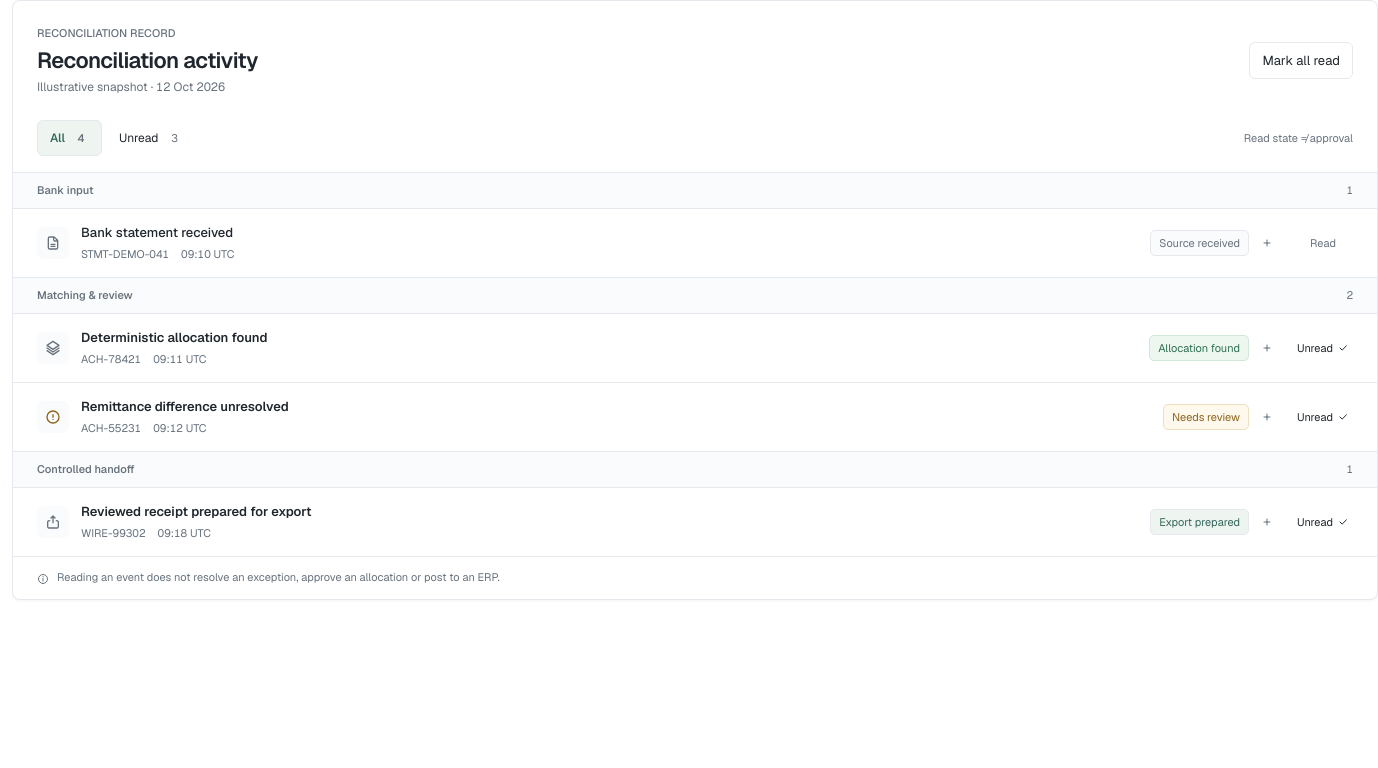
Test: ReconciliationActivity › marks all events read while preserving exceptions and export controls
Click the button "Mark all read" at (1301,61), box 1250,42 -> 1353,79
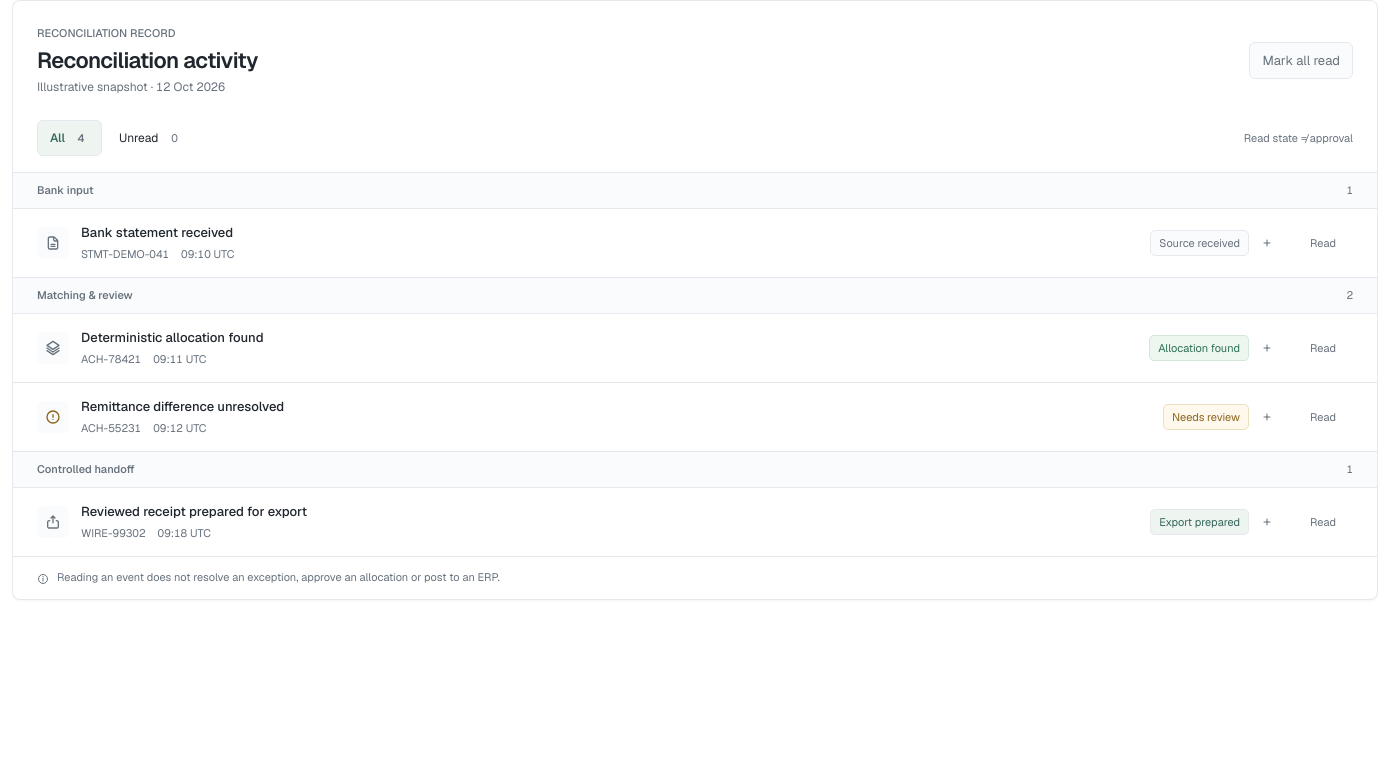
Expected: the text "Needs review" is shown, 1163,404 -> 1249,430
Now the button "Mark all read" is disabled, box 1250,42 -> 1353,79
Now the button "Unread 0" is shown
Click the button "Unread 0" at (151,138), box 106,120 -> 196,156
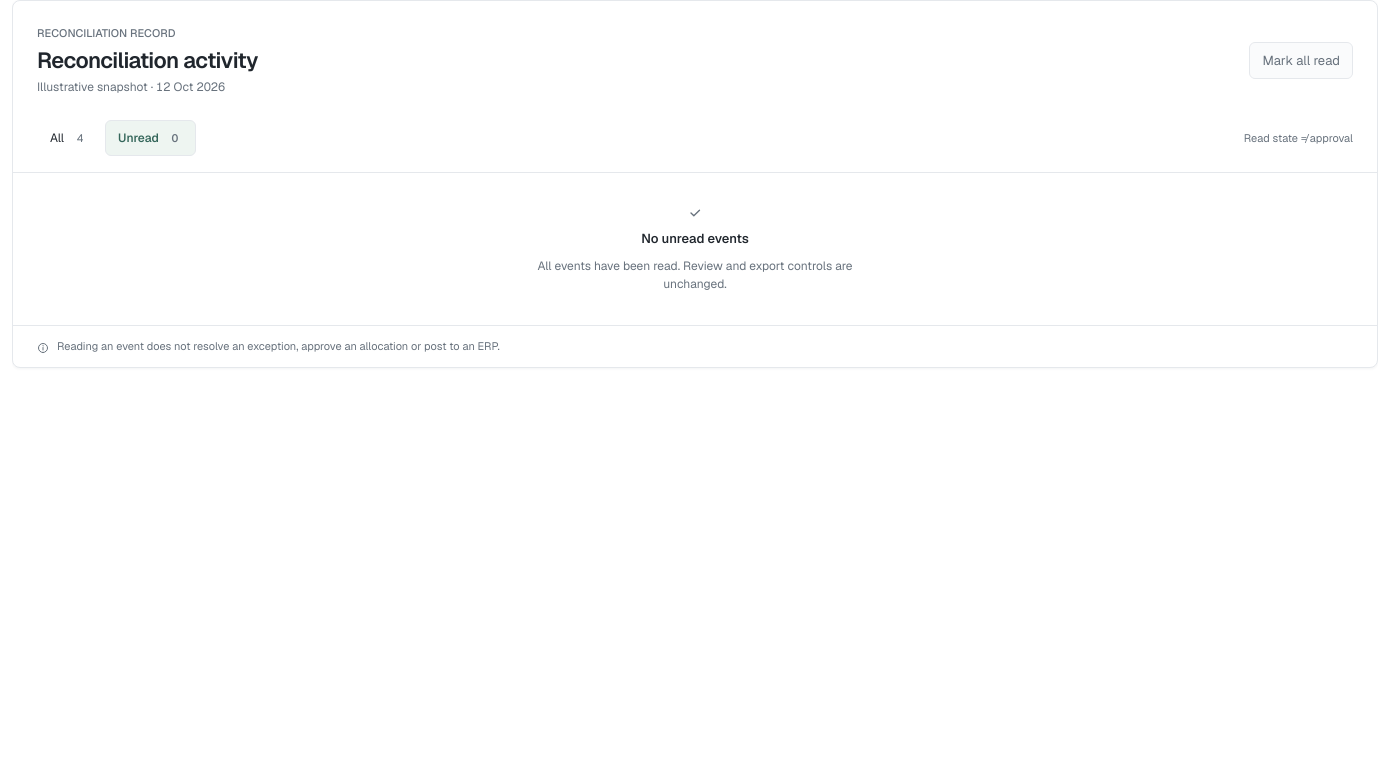
Now the text "No unread events" is shown, box 641,229 -> 749,249
Now the text "All events have been read. Review and export controls are unchanged." is shown, box 536,257 -> 854,293
Now the list item "Bank statement received STMT-DEMO-041 09:10 UTC Source received Read" is gone
